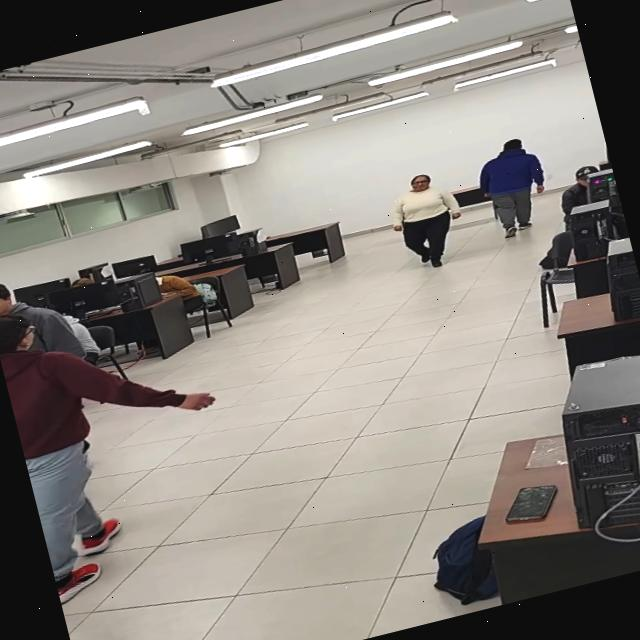Persona: (0, 268, 255, 606), (0, 260, 89, 375), (382, 166, 473, 276), (469, 133, 557, 243)
